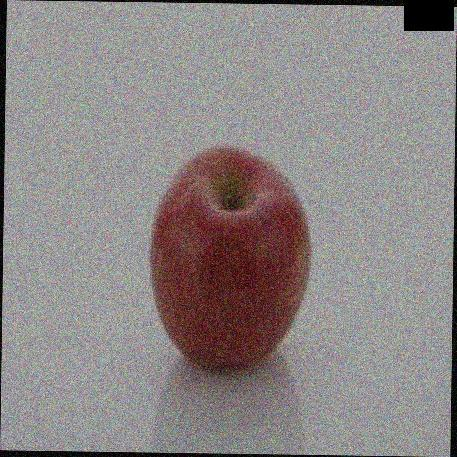red apple: (146, 144, 310, 374)
